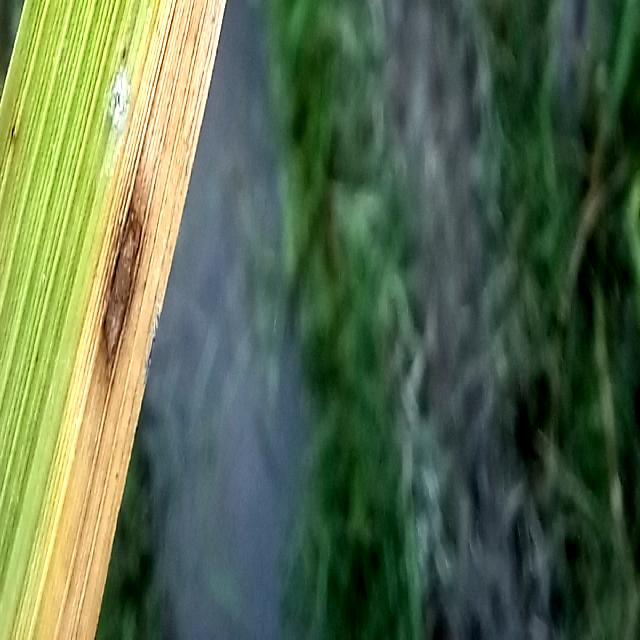LEAF BLAST: (103, 200, 141, 366)
